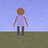person: (13, 8, 27, 35)
